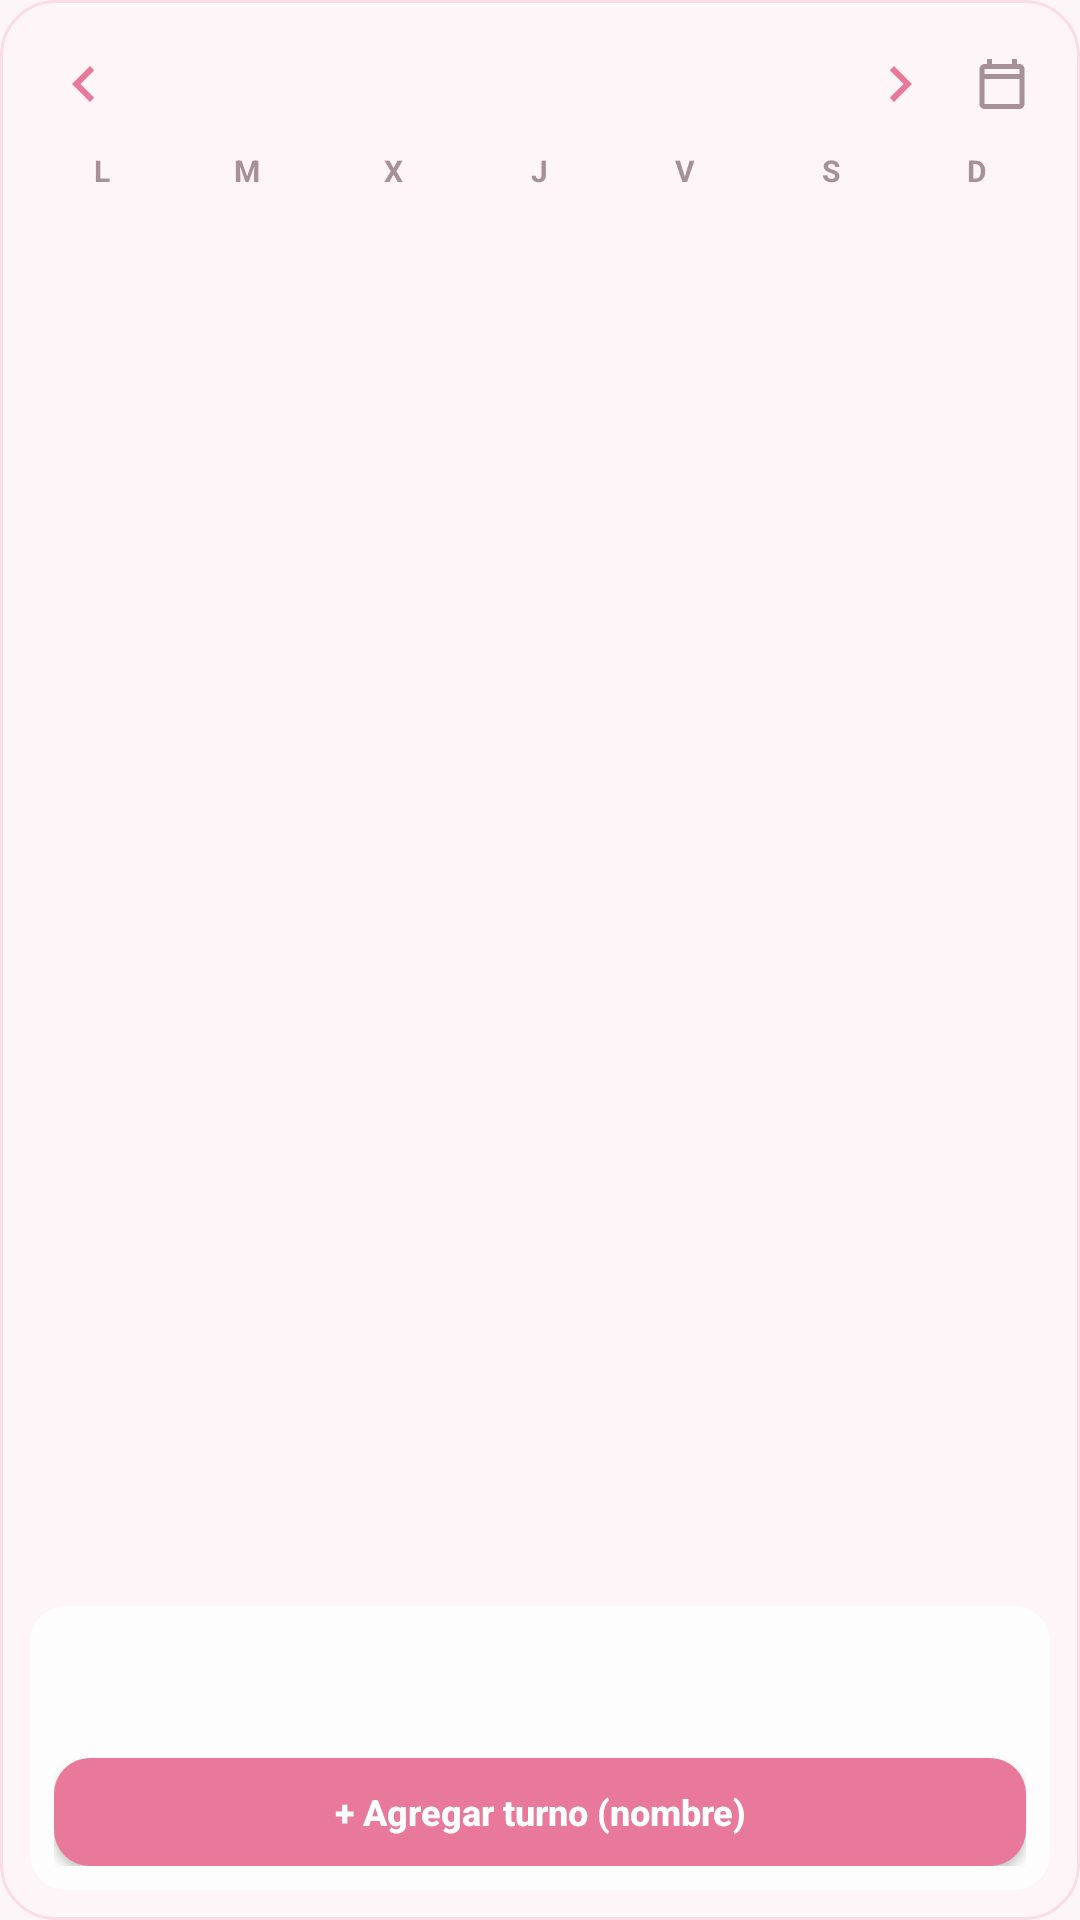

Where to tap for icons on this 1080 × 1920 app screen, as [x,y]:
Mes anterior: [83,84]
Mes siguiente: [901,84]
